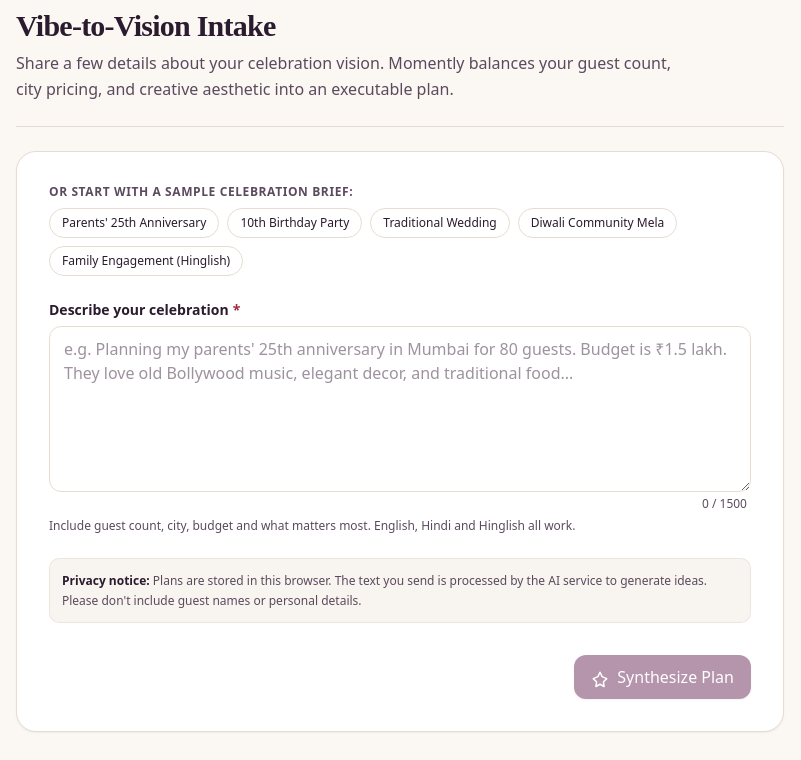
it: New Event Intake Flow (/new) › displays rate-limited error with retryAfterSeconds and handles network error
The image size is (801, 760).
Click the button "Parents' 25th Anniversary" at (134, 223), box [49, 208, 219, 238]
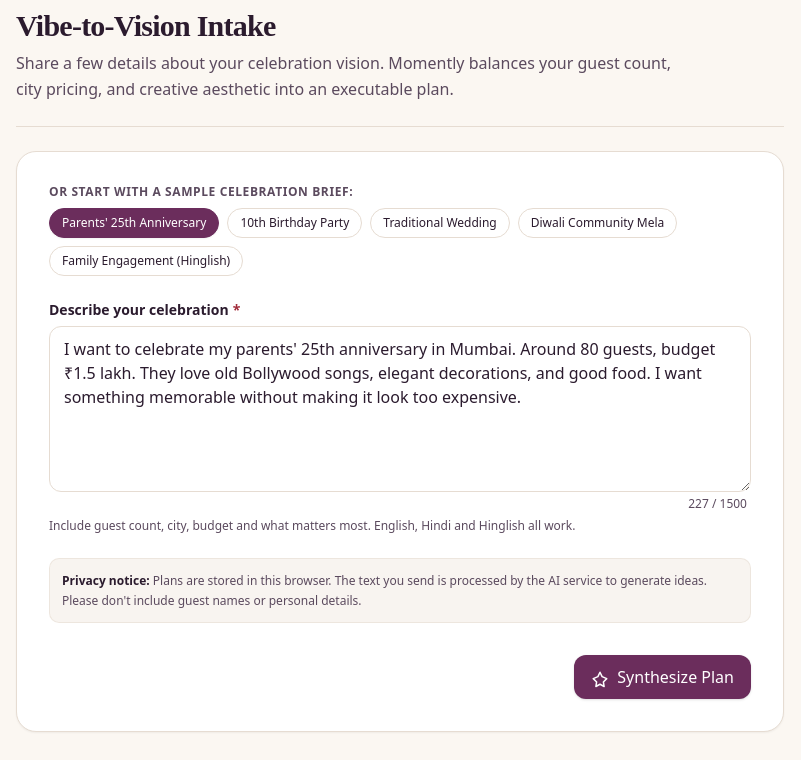
Click the button "Synthesize Plan" at (663, 677), box [574, 655, 751, 699]
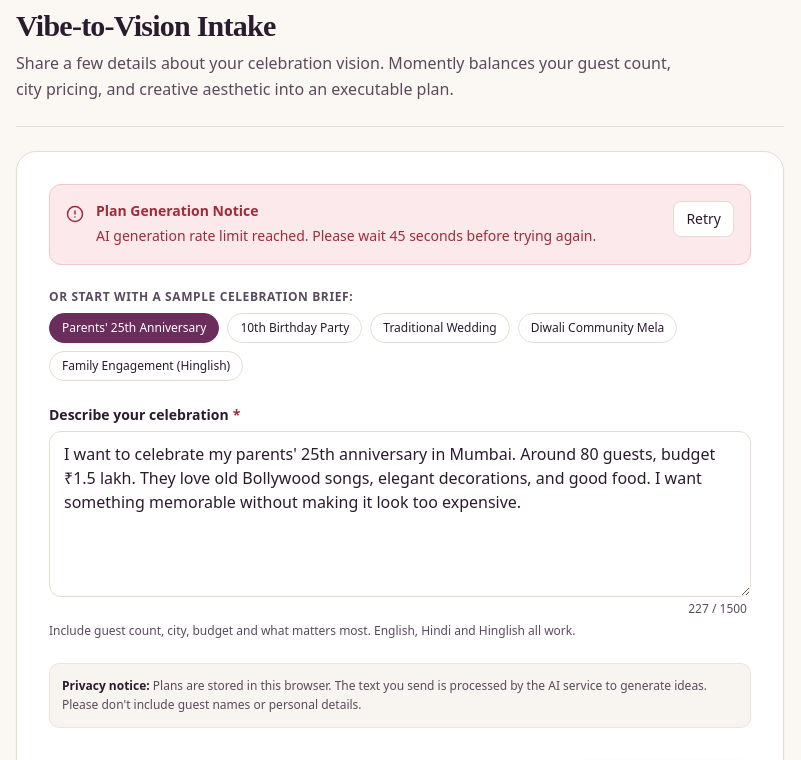
Result: the text "wait 45 seconds before trying again" is shown at [96, 226, 596, 245]
Click the button "Retry" at (704, 219), box [673, 201, 734, 237]
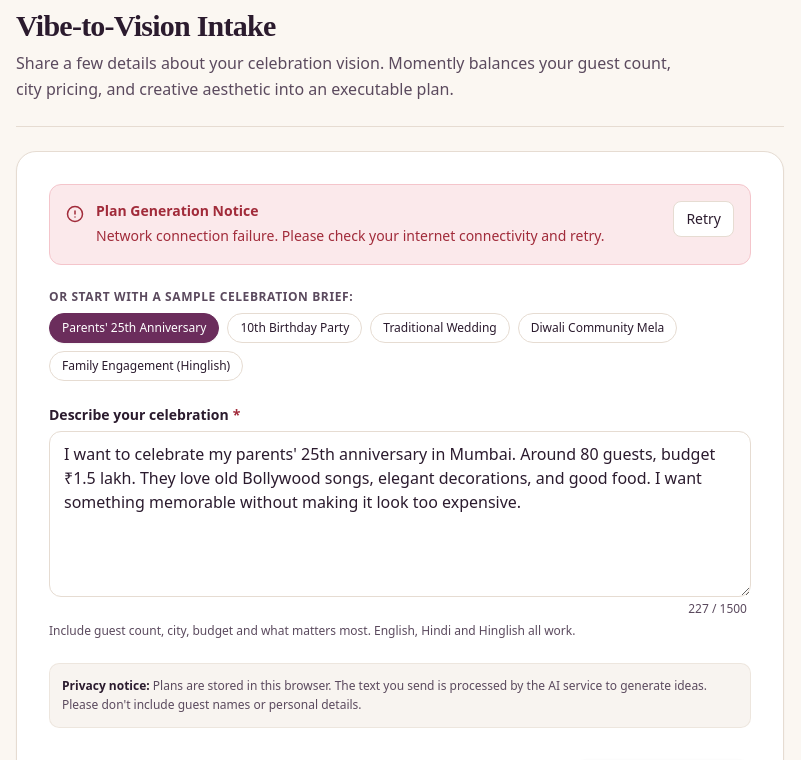
Result: the text "Network connection failure" is shown at [96, 226, 605, 245]
